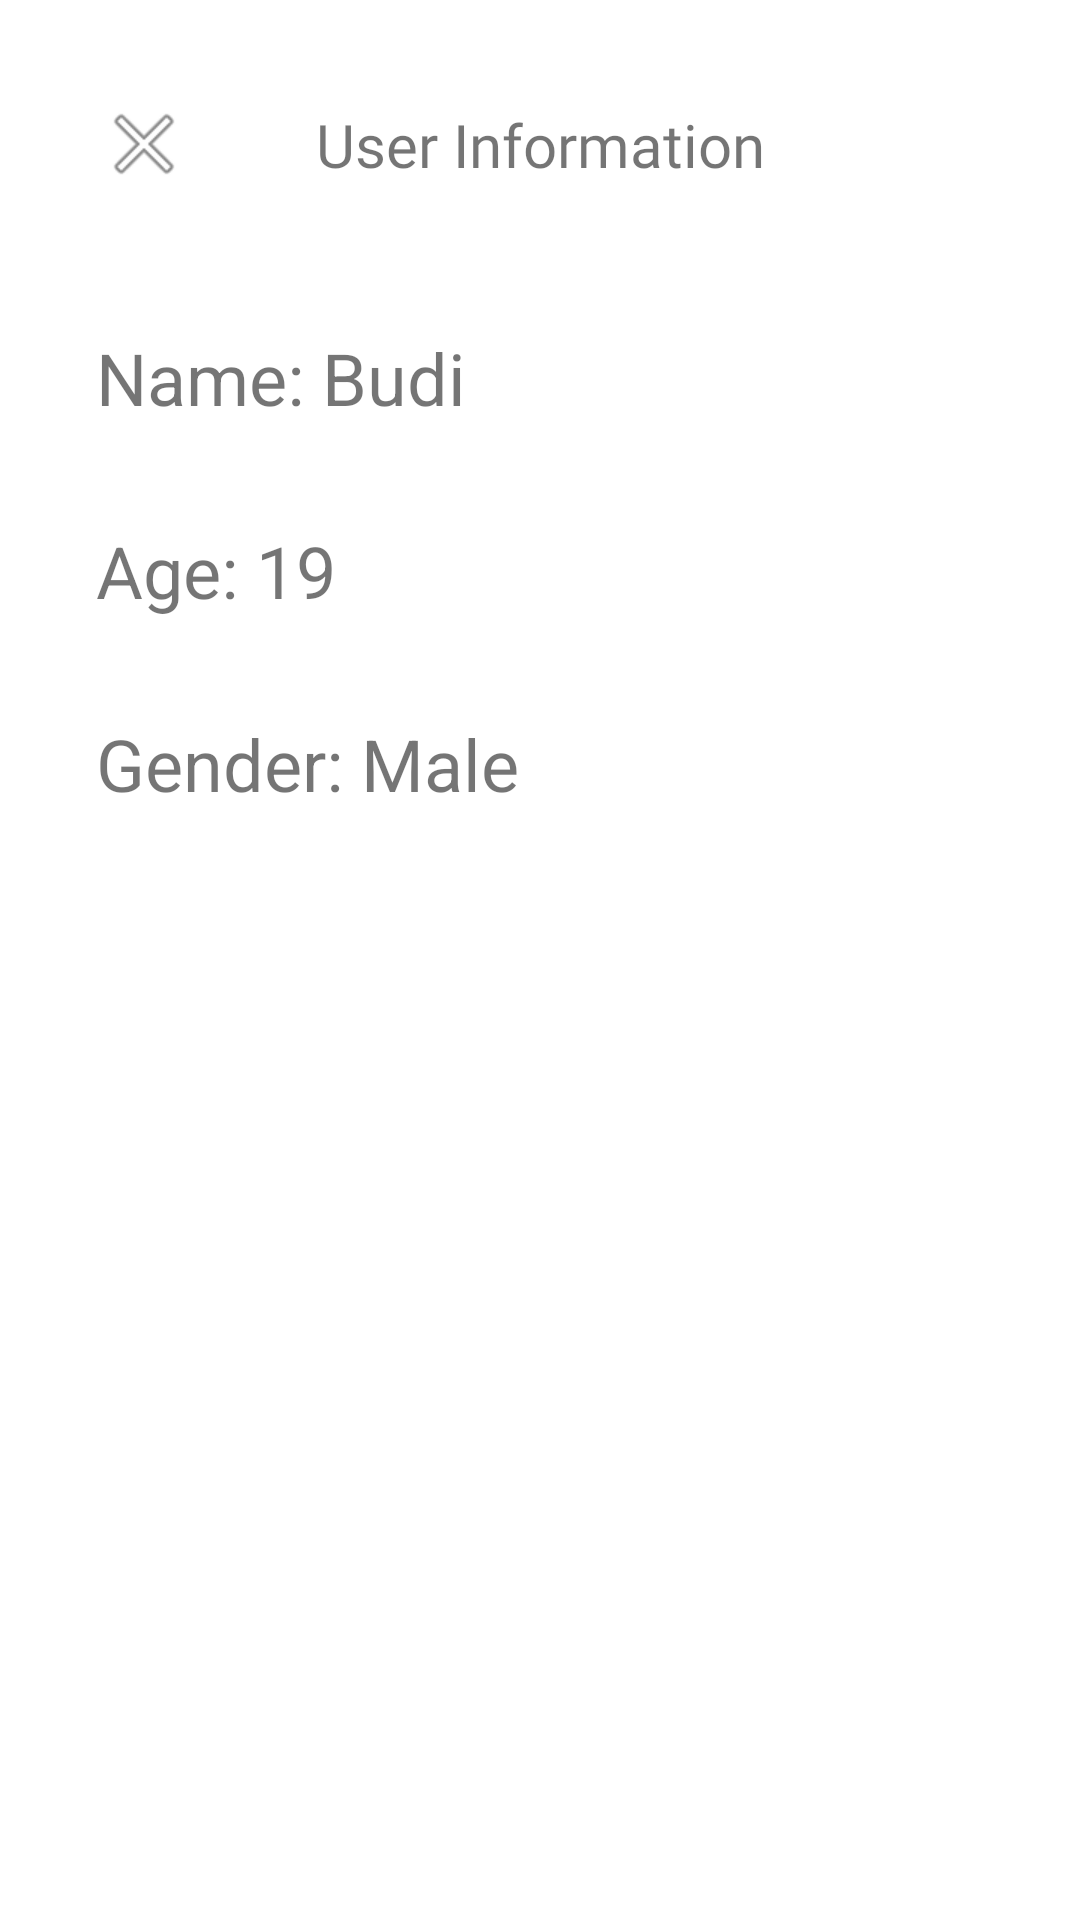

Icons on this 1080px x 1920px Android screen, each with the point to tap as [x,y]:
Close: [144,144]
